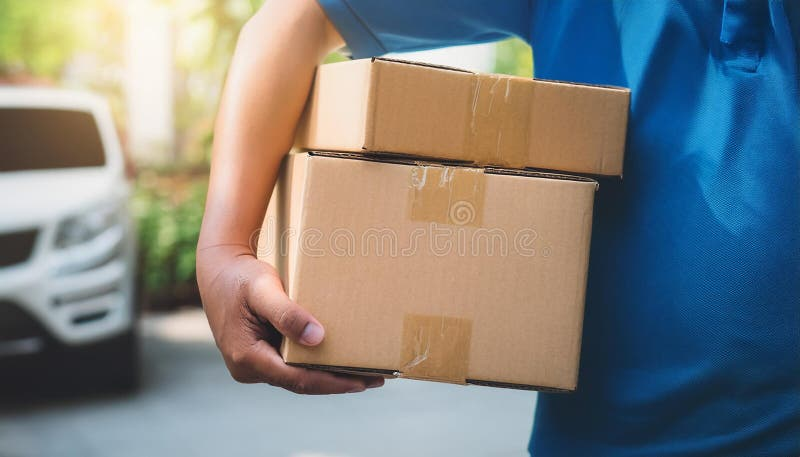DeliveryBox: (251, 34, 629, 415)
